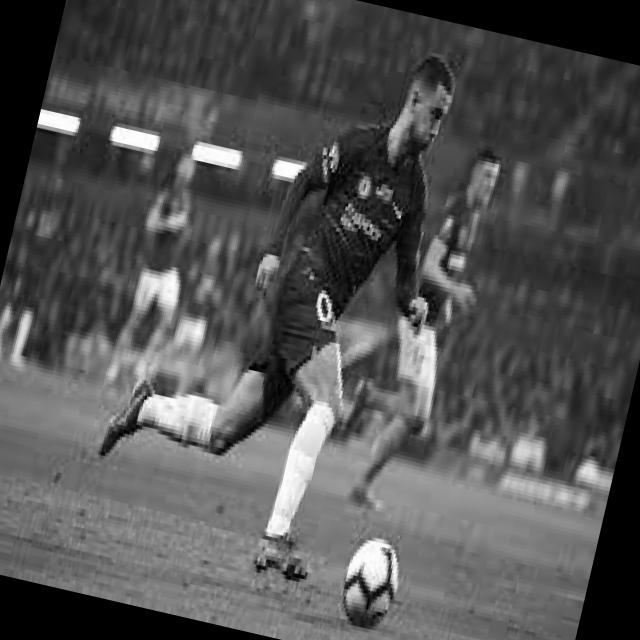football: (330, 529, 408, 635)
